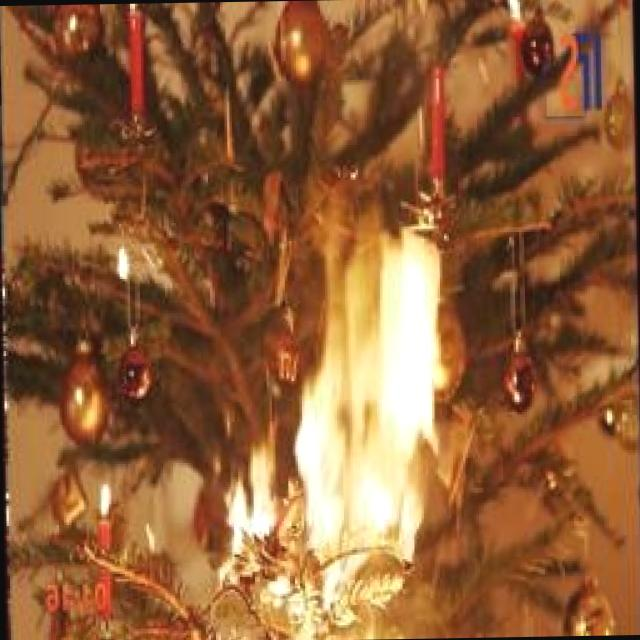fire: (198, 202, 475, 607)
